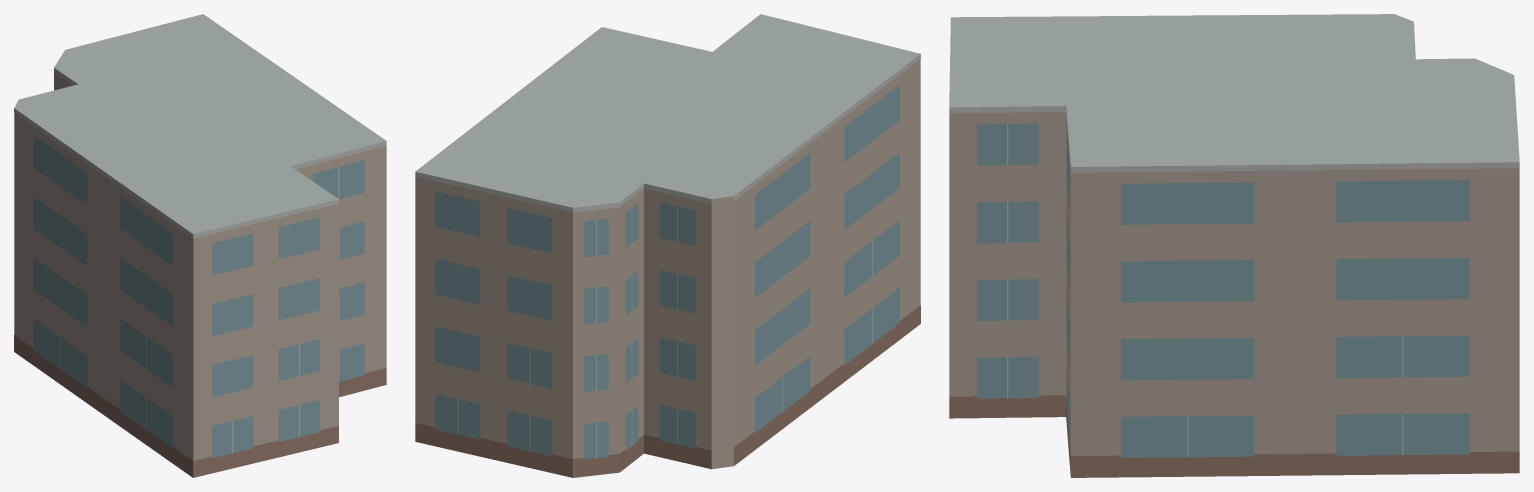
The model's file is survey-upis-32686641.glb.
The picture shows the model from 3 angles, left to right: view 1: azimuth 30°, elevation 25°; view 2: azimuth 150°, elevation 25°; view 3: azimuth 270°, elevation 25°; orthographic projection. The views are drawn at different scales.
Parts seen in each view (by area): view 1: survey-upis-32686641.tmp; view 2: survey-upis-32686641.tmp; view 3: survey-upis-32686641.tmp.
Boxes of the visible parts, x1=… form: survey-upis-32686641.tmp: x1=14, y1=14, x2=386, y2=477; survey-upis-32686641.tmp: x1=415, y1=14, x2=920, y2=477; survey-upis-32686641.tmp: x1=949, y1=14, x2=1519, y2=477.
Size of the model in its own units: 13.87 by 13.14 by 21.87.
